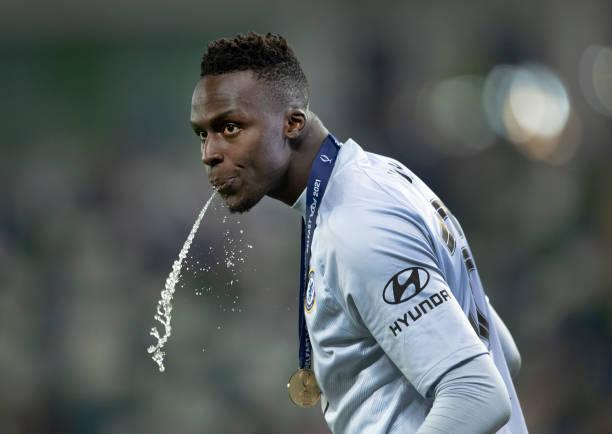Spitting: (169, 11, 344, 252)
